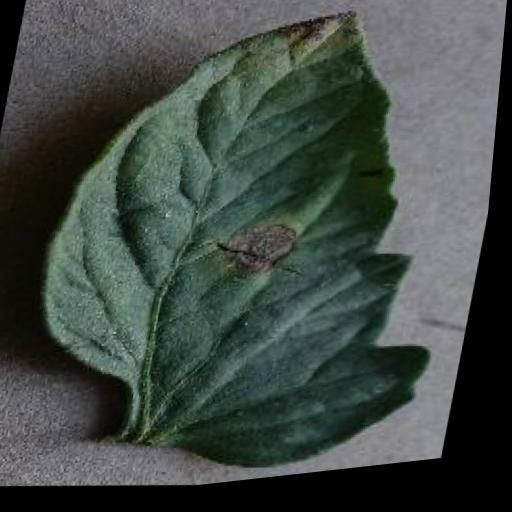Early Blight: (15, 0, 504, 508)
